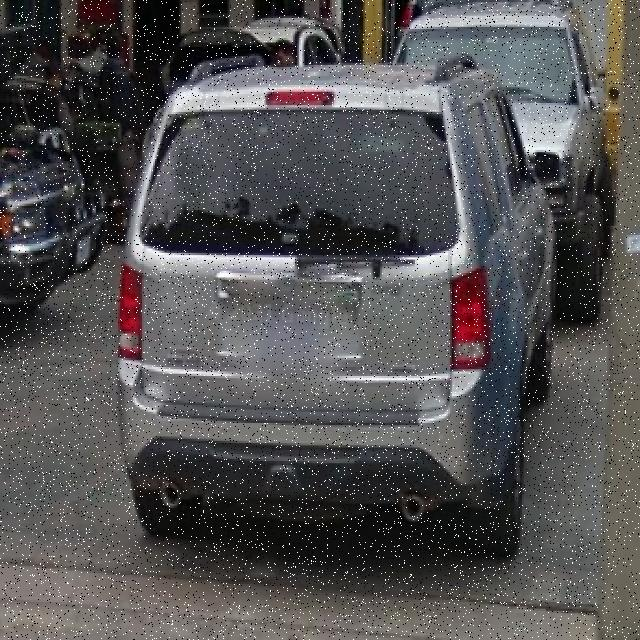cars: (132, 72, 540, 553)
